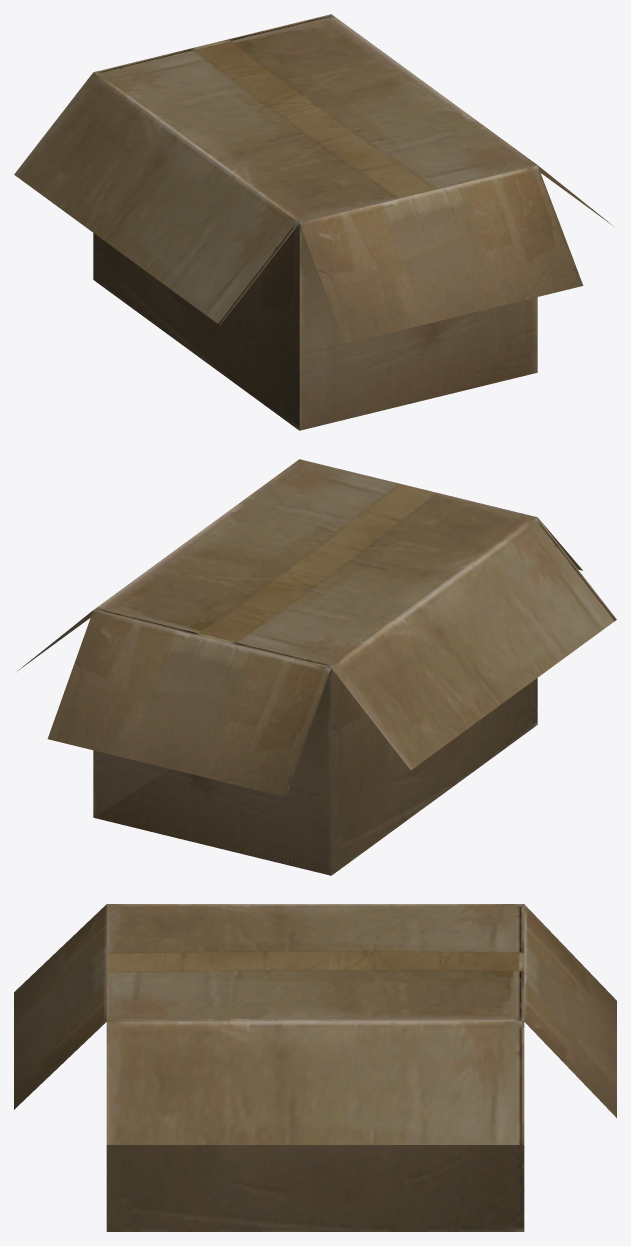
Rendered from Cardboard Box (DR).obj.
3 views of the same model, one above another, from view 1: azimuth 30°, elevation 25°; view 2: azimuth 150°, elevation 25°; view 3: azimuth 270°, elevation 25° (orthographic).
Visible parts, largest first — view 1: rdmobj01_model\om\om0; view 2: rdmobj01_model\om\om0; view 3: rdmobj01_model\om\om0.
Part boxes in pixels (x1,y1,x2,y2): rdmobj01_model\om\om0: (14,14,612,430); rdmobj01_model\om\om0: (18,459,616,875); rdmobj01_model\om\om0: (14,904,616,1231).
Bounding box in the file's own units: 3.05 × 1.53 × 3.97.
